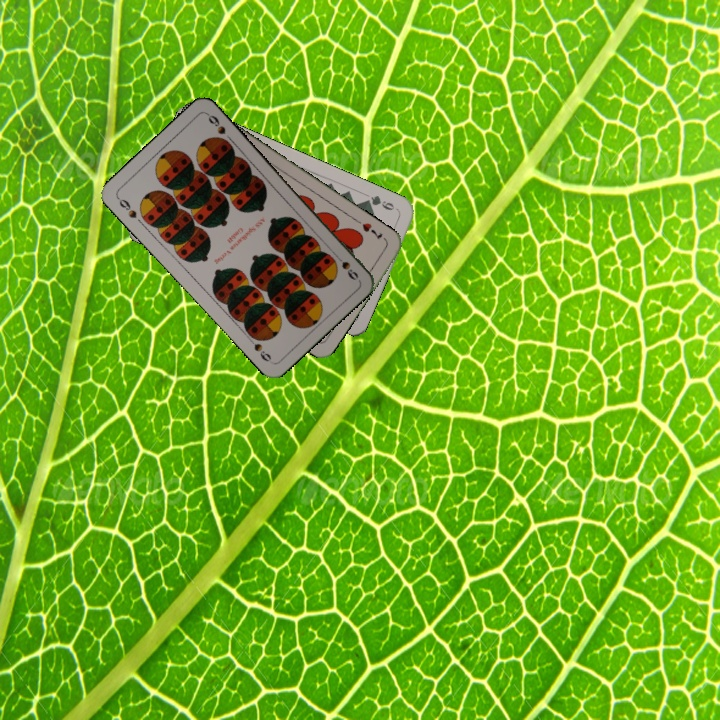G9: (360, 191, 400, 213)
H7: (358, 218, 385, 243)
S9: (330, 249, 361, 283), (113, 193, 139, 221)
